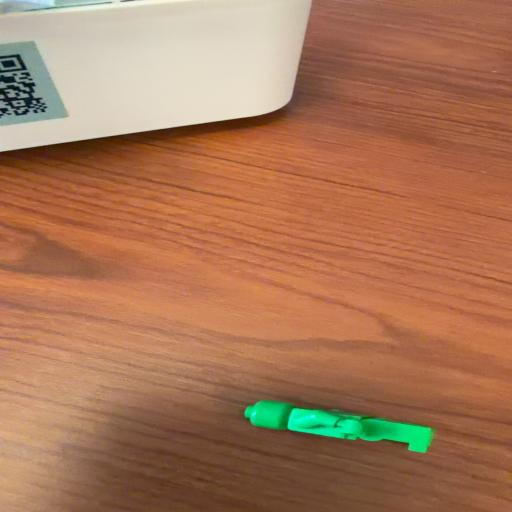UnoQ-minifig-detector: (245, 401, 433, 453)
